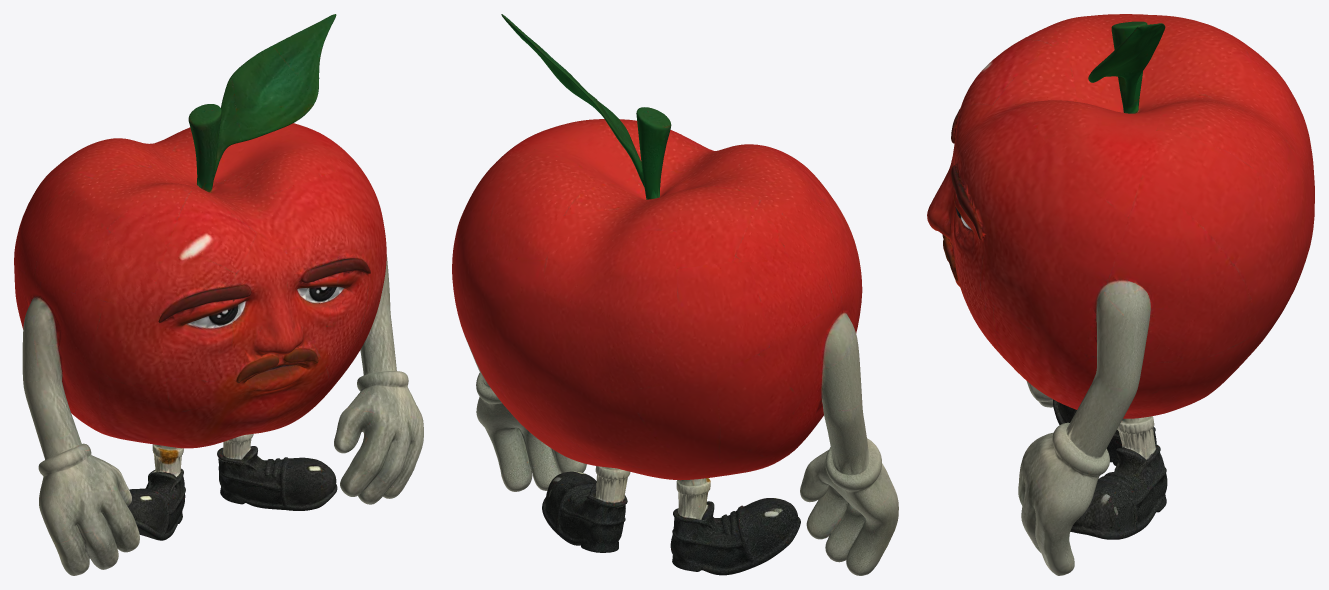
File: w-s-bitcoin.glb
The picture shows the model from 3 angles, left to right: view 1: azimuth 30°, elevation 25°; view 2: azimuth 150°, elevation 25°; view 3: azimuth 270°, elevation 25°; orthographic projection. The views are drawn at different scales.
Parts seen in each view (by area): view 1: mesh_node; view 2: mesh_node; view 3: mesh_node.
Part boxes in pixels (left/top/right/bottom): mesh_node: left=14, top=14, right=423, bottom=575; mesh_node: left=452, top=14, right=898, bottom=575; mesh_node: left=927, top=14, right=1314, bottom=575.
Size of the model in its own units: 1.62 by 1.9 by 1.24.
1 material, 1 textured.
